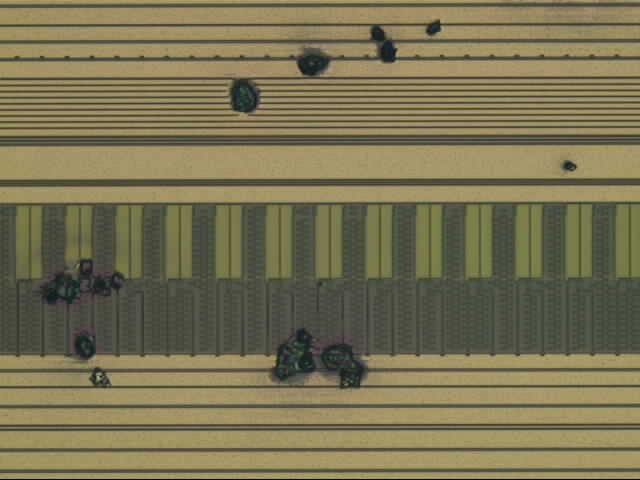PO CONTAMINATION: (42, 20, 510, 394)
